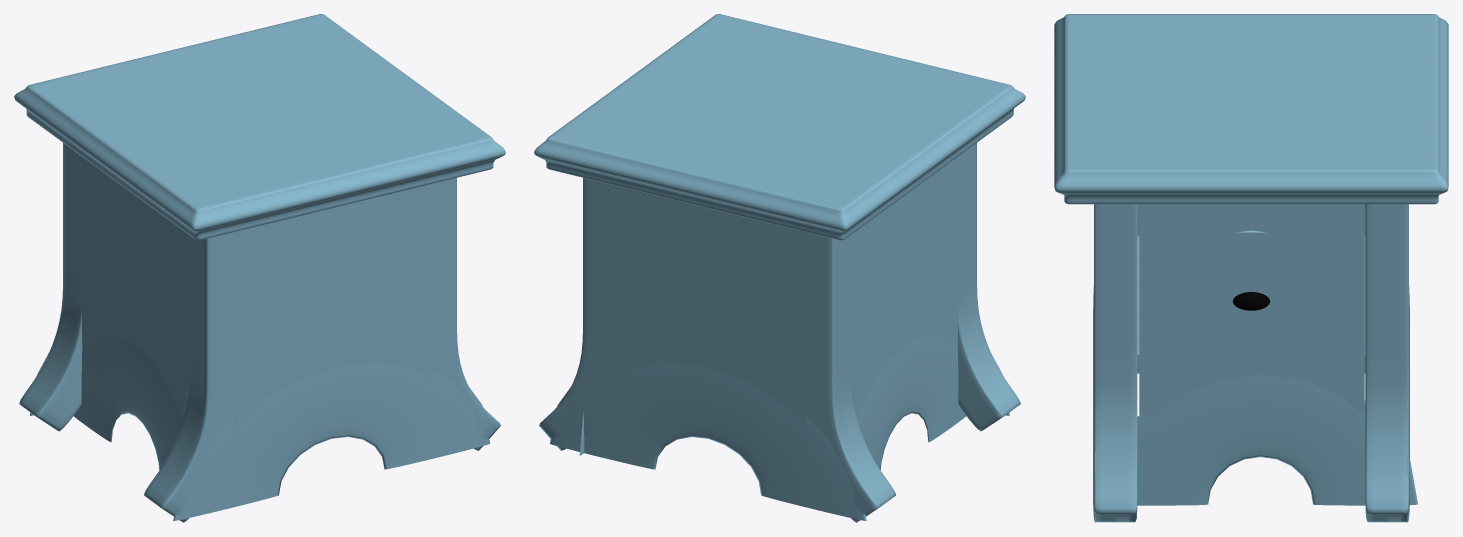
The model's file is MueblePecera.obj.
The picture shows the model from 3 angles, left to right: view 1: azimuth 30°, elevation 25°; view 2: azimuth 150°, elevation 25°; view 3: azimuth 270°, elevation 25°; orthographic projection. The views are drawn at different scales.
Parts seen in each view (by area): view 1: side_table:Box15; view 2: side_table:Box15; view 3: side_table:Box15, side_table:Box10, pSphere1.
Boxes of the visible parts, x1,y1,x2,y2 form: side_table:Box15: (14, 14, 505, 522); side_table:Box15: (534, 14, 1025, 522); side_table:Box15: (1054, 14, 1448, 522); side_table:Box10: (1137, 235, 1365, 370); pSphere1: (1232, 292, 1270, 310).
Bounding box in the file's own units: 45.6 × 41.49 × 42.13.
Materials: 3 (2 with a texture image).
